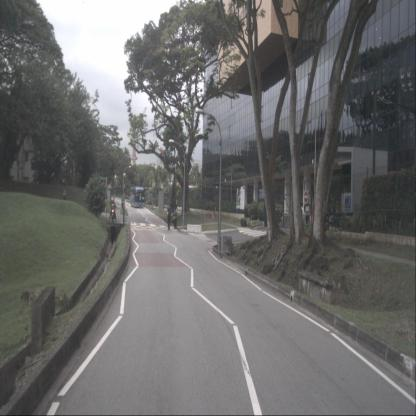human-pedestrian-adult: (304, 198, 312, 233), (165, 203, 173, 231), (61, 186, 67, 216), (171, 206, 178, 231), (211, 198, 216, 223)
vehicle-bus-rigid: (130, 186, 145, 208)
vehicle-motorcycle: (108, 197, 118, 222)
